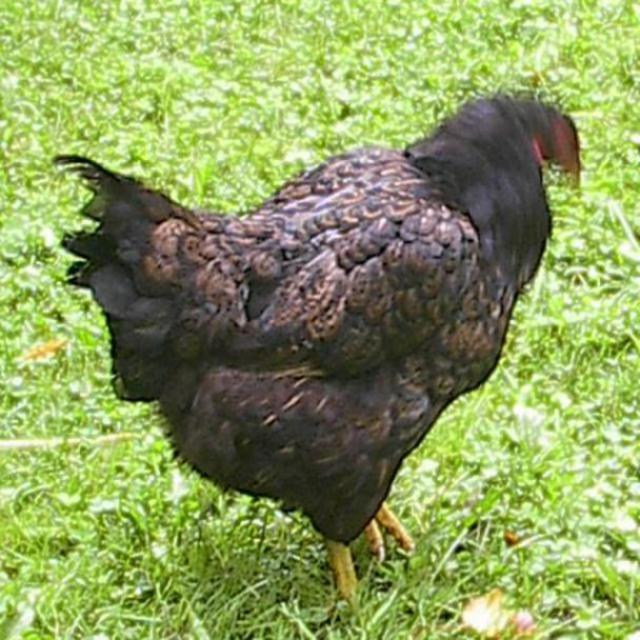Chicken: (57, 92, 579, 596)
